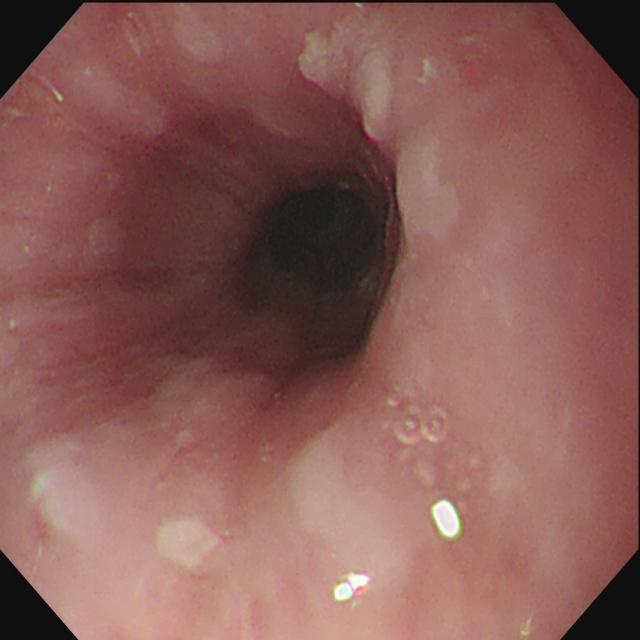E: (236, 176, 384, 301)
J: (297, 30, 395, 141)
T: (389, 395, 449, 447)
U: (431, 499, 463, 545), (332, 572, 374, 606)
